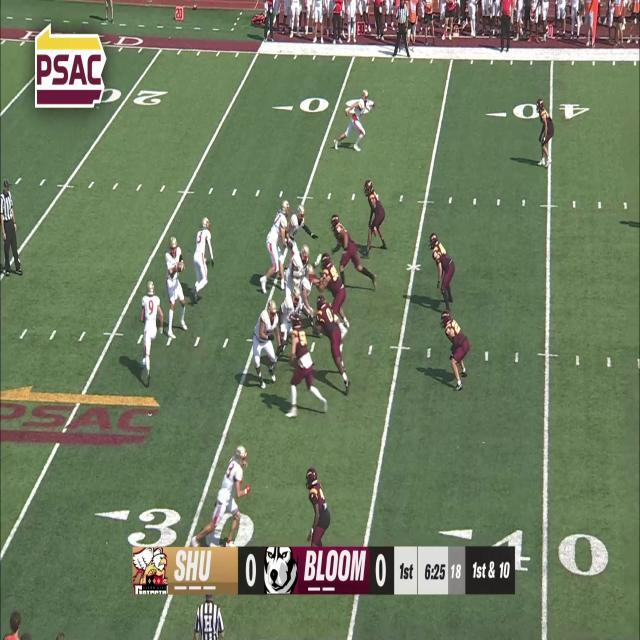football: (176, 260, 184, 272)
